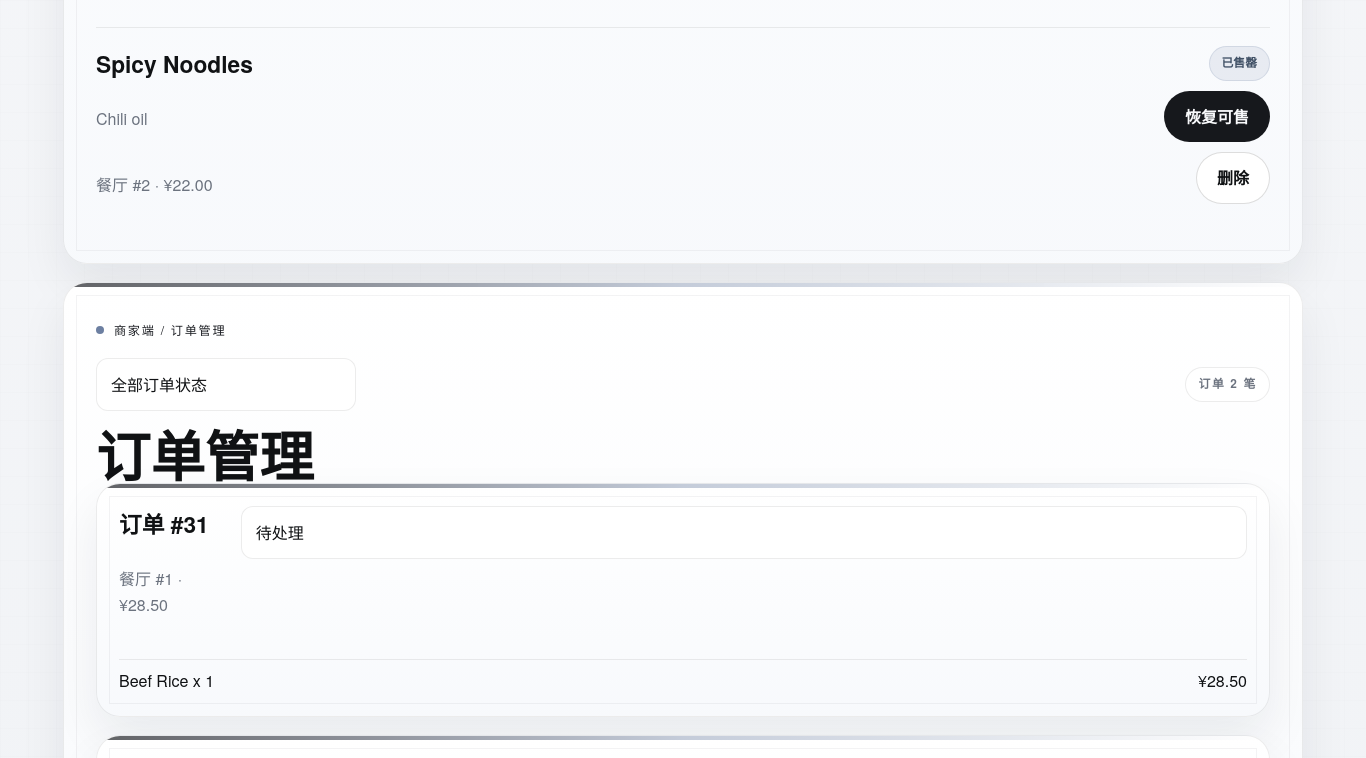
Test: MerchantDashboard › filters orders by status
(page scrolled)
Check: the heading "订单 #31" is shown, box [119, 506, 223, 542]
Select "已完成" in the 1st dropdown at coordinates (226, 385), box [96, 358, 356, 411]
(page scrolled)
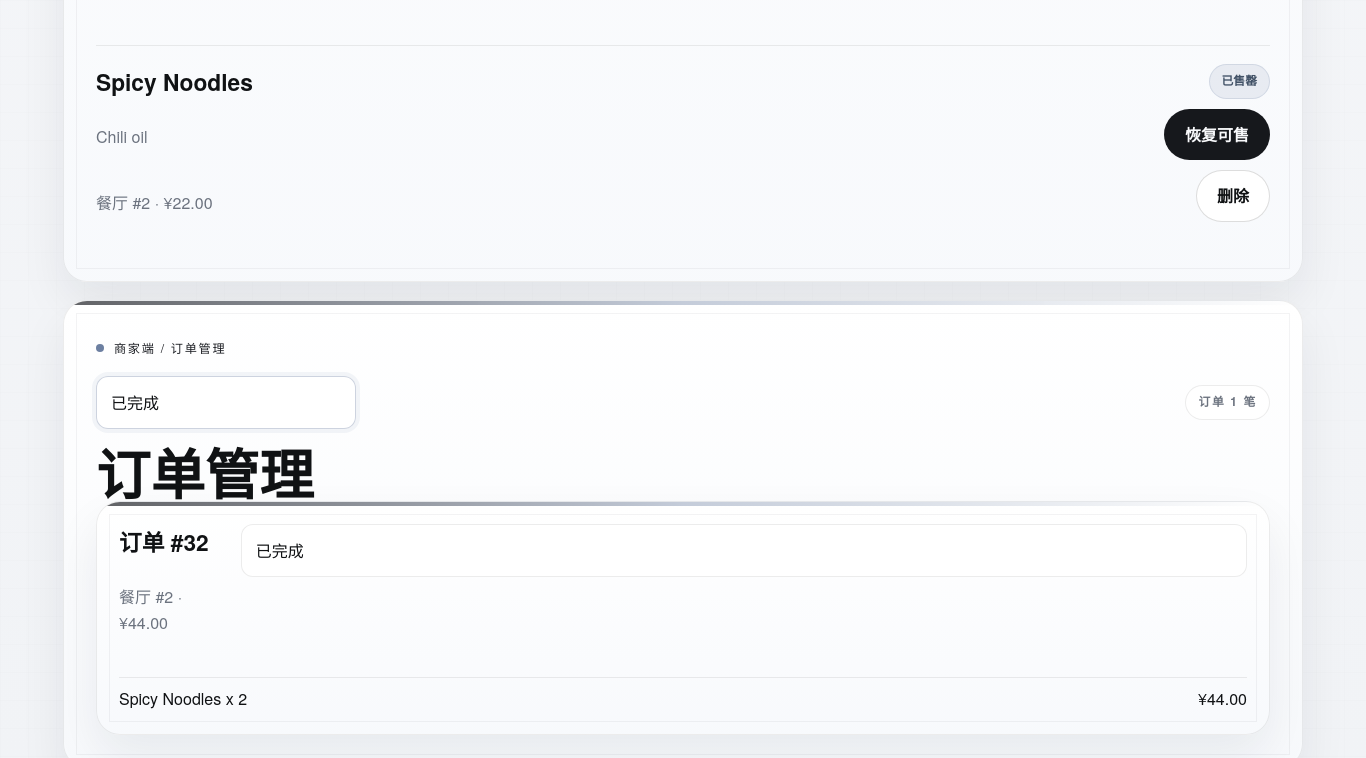
Check: the heading "订单 #32" is shown, box [119, 524, 223, 560]
Check: the heading "订单 #31" is gone
Check: the text "订单 1 笔" is shown, box [1185, 385, 1270, 420]
